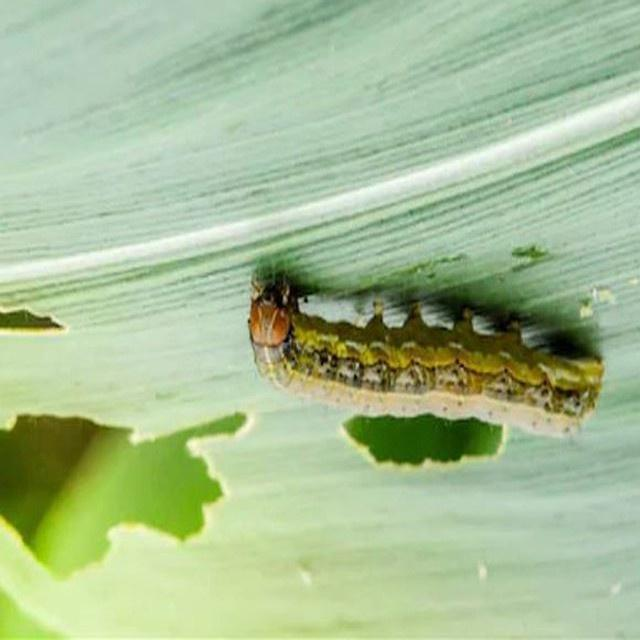Plaga: (255, 274, 603, 431)
